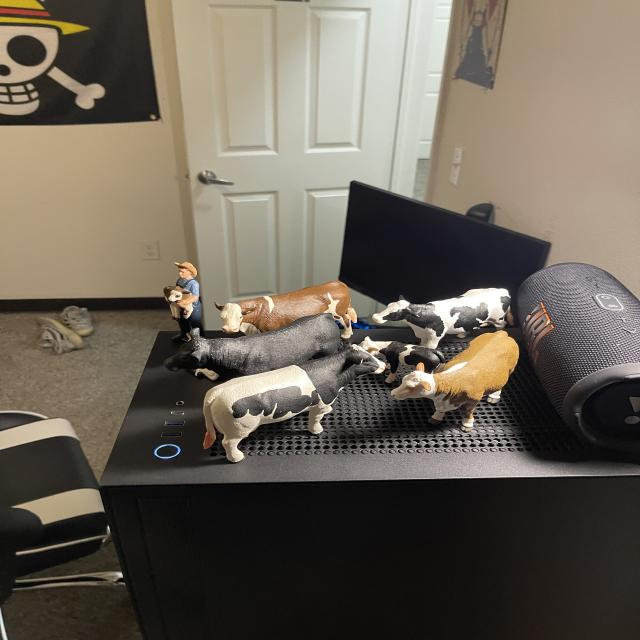cow: (186, 330, 397, 471), (389, 303, 537, 452), (160, 309, 352, 389), (369, 281, 517, 358), (214, 278, 358, 339), (354, 335, 446, 391), (162, 281, 194, 322)
person: (175, 262, 200, 298)
